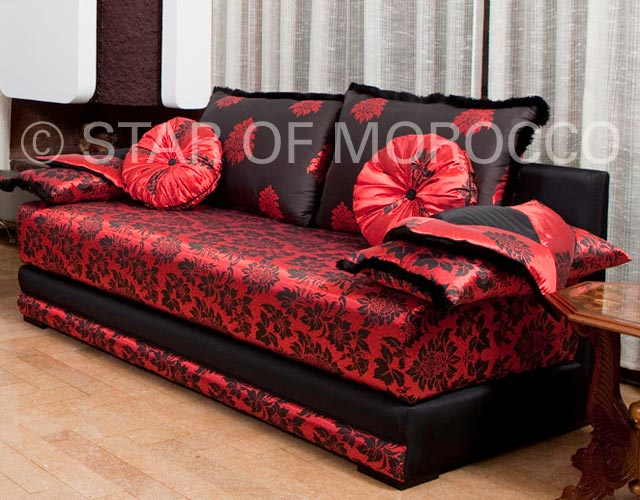chairs: (10, 77, 614, 492)
